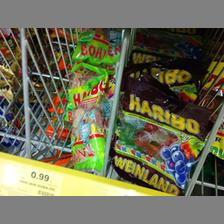Suessigkeit: (111, 84, 207, 192), (58, 71, 110, 173)
